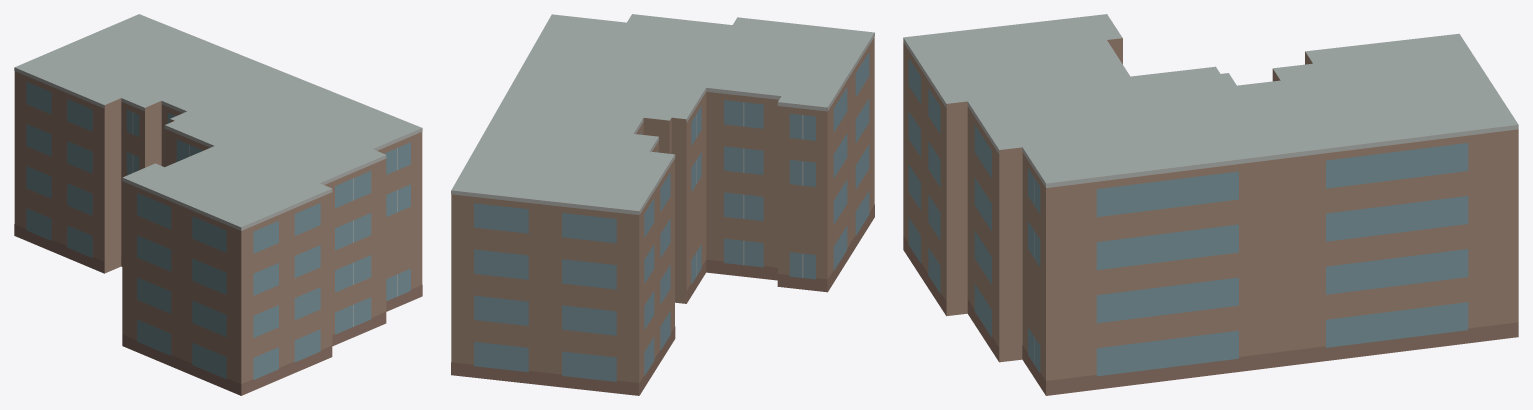
Rendered from survey-upis-32773701.glb.
The picture shows the model from 3 angles, left to right: view 1: azimuth 30°, elevation 25°; view 2: azimuth 150°, elevation 25°; view 3: azimuth 270°, elevation 25°; orthographic projection. The views are drawn at different scales.
Visible parts, largest first — view 1: survey-upis-32773701.tmp; view 2: survey-upis-32773701.tmp; view 3: survey-upis-32773701.tmp.
Boxes of the visible parts, left/top/right/bottom form: survey-upis-32773701.tmp: left=14, top=14, right=422, bottom=395; survey-upis-32773701.tmp: left=451, top=14, right=874, bottom=395; survey-upis-32773701.tmp: left=903, top=14, right=1518, bottom=395.
Bounding box in the file's own units: 19.72 × 11.5 × 30.23.
